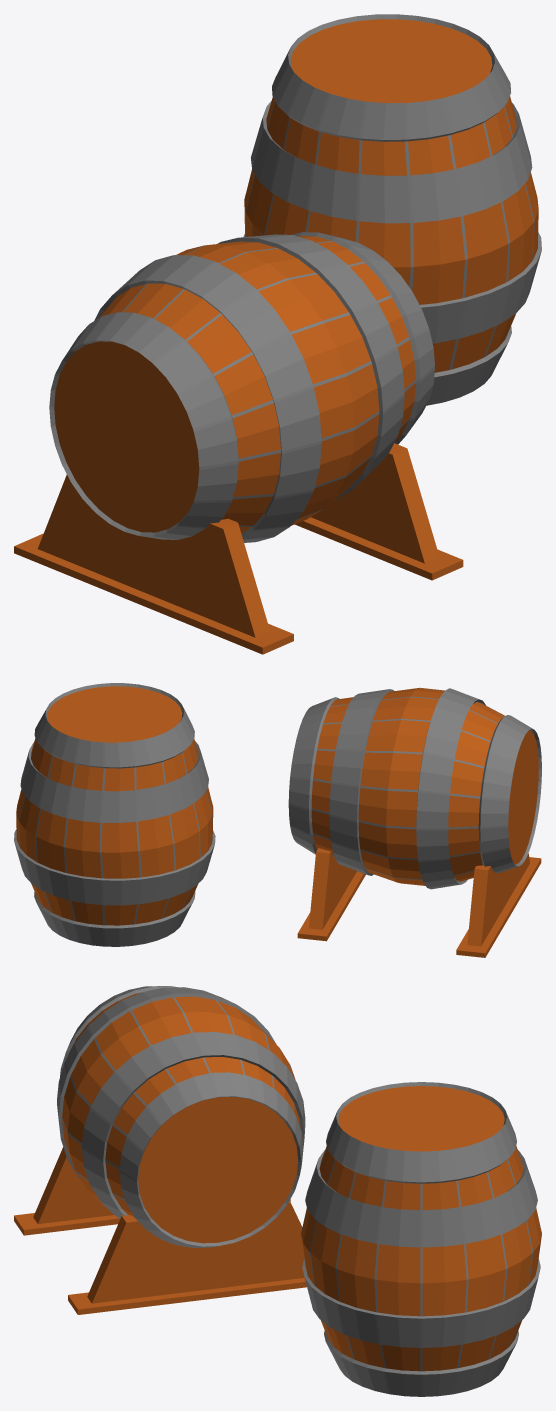
File: Barrel.fbx
The picture shows the model from 3 angles, top to bottom: view 1: azimuth 30°, elevation 25°; view 2: azimuth 150°, elevation 25°; view 3: azimuth 270°, elevation 25°; orthographic projection. The views are drawn at different scales.
Visible parts, largest first — view 1: Barrel 2, Barrel.001; view 2: Barrel 2, Barrel.001; view 3: Barrel 2, Barrel.001.
Part boxes in pixels (x1,y1,x2,y2): Barrel 2: (14,232,463,654); Barrel.001: (243,14,541,405); Barrel 2: (288,687,541,957); Barrel.001: (14,683,215,946); Barrel 2: (14,986,306,1314); Barrel.001: (301,1082,541,1396).
Bounding box in the file's own units: 646 × 328 × 617.
